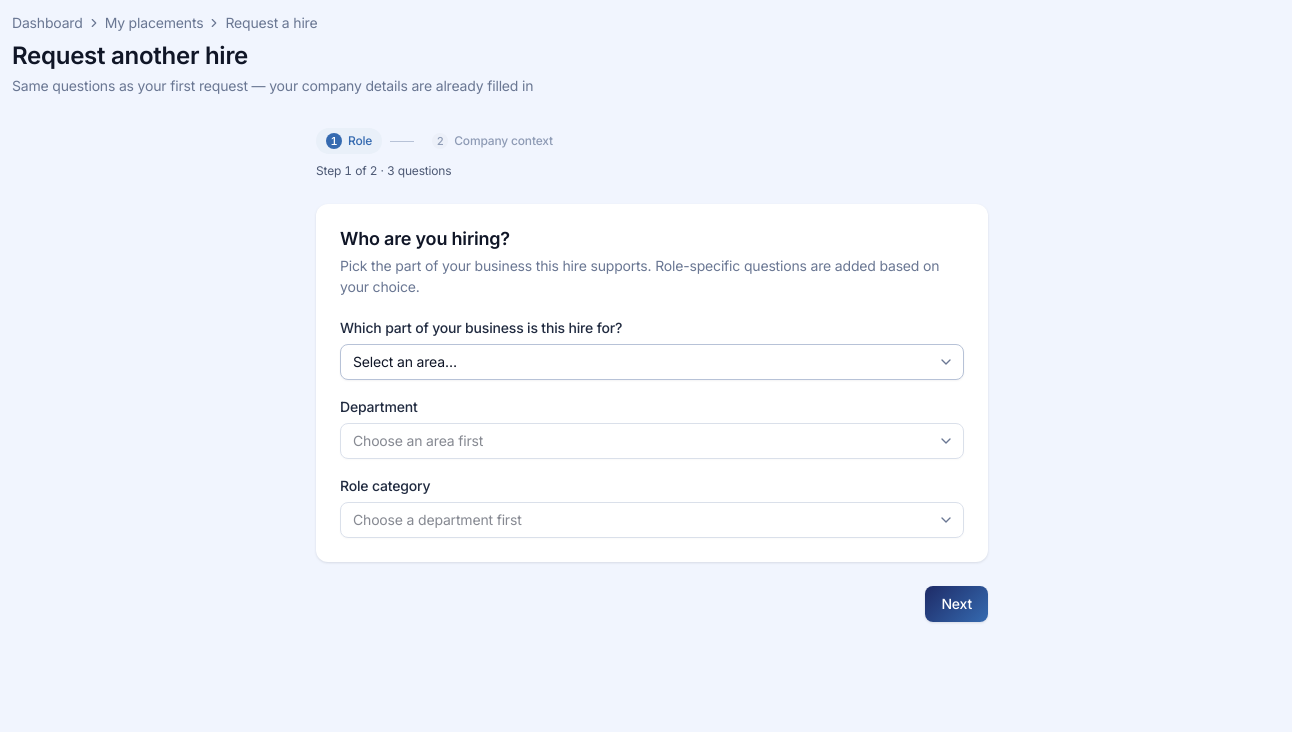
Test: in-portal intake › prefills company/contact questions read-only from the account
This screenshot has width=1292, height=732.
Select "Operations" in the dropdown labelled "Which part of your business is this hire for?" at coordinates (652, 362), box x1=340 y1=344 x2=964 y2=380
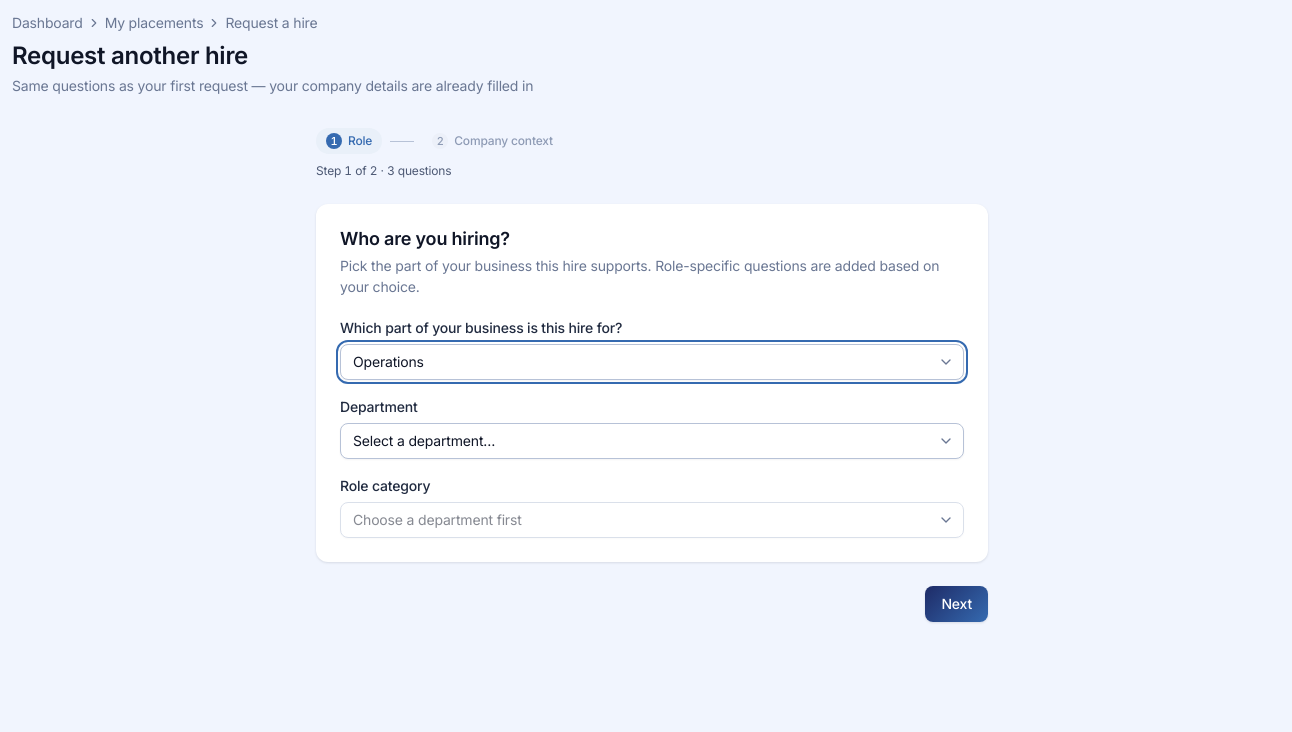
Select "Executive Assistance" in the dropdown labelled "Department" at coordinates (652, 440), box x1=340 y1=422 x2=964 y2=458
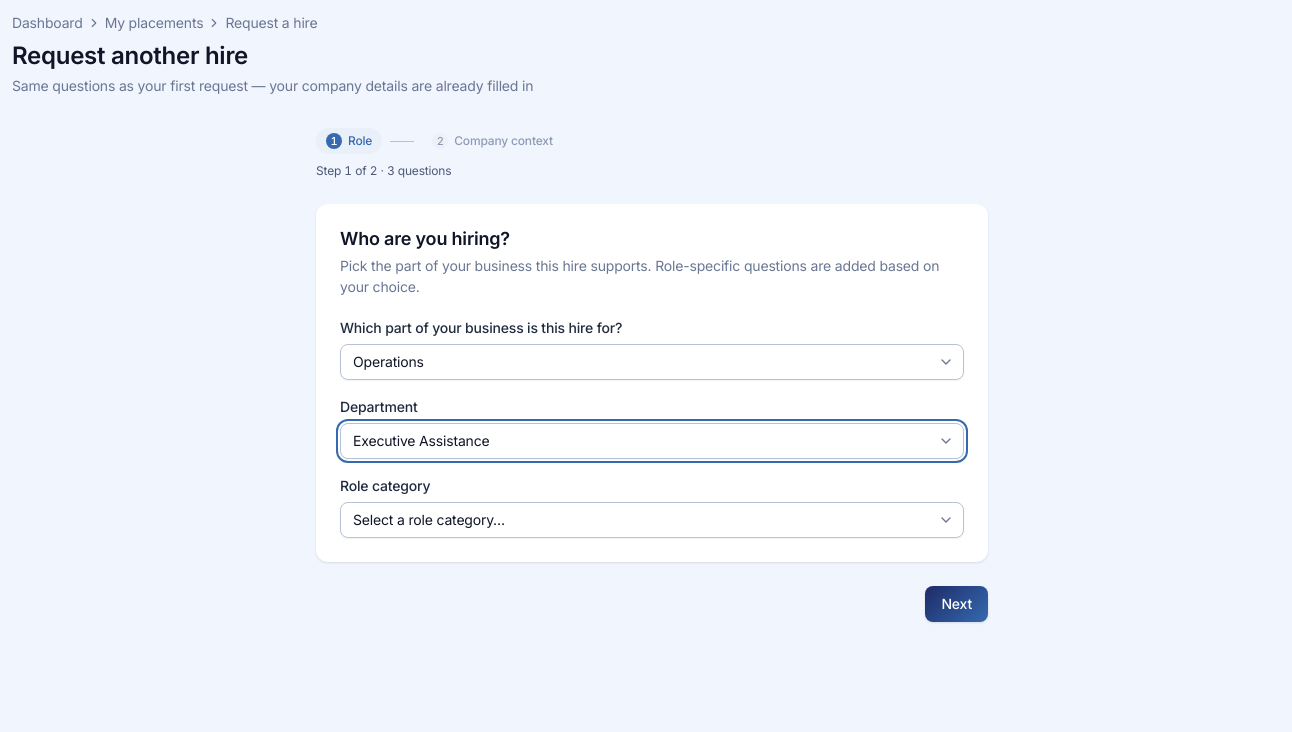
Select "Executive Assistant" in the dropdown labelled "Role category" at coordinates (652, 520), box x1=340 y1=502 x2=964 y2=538
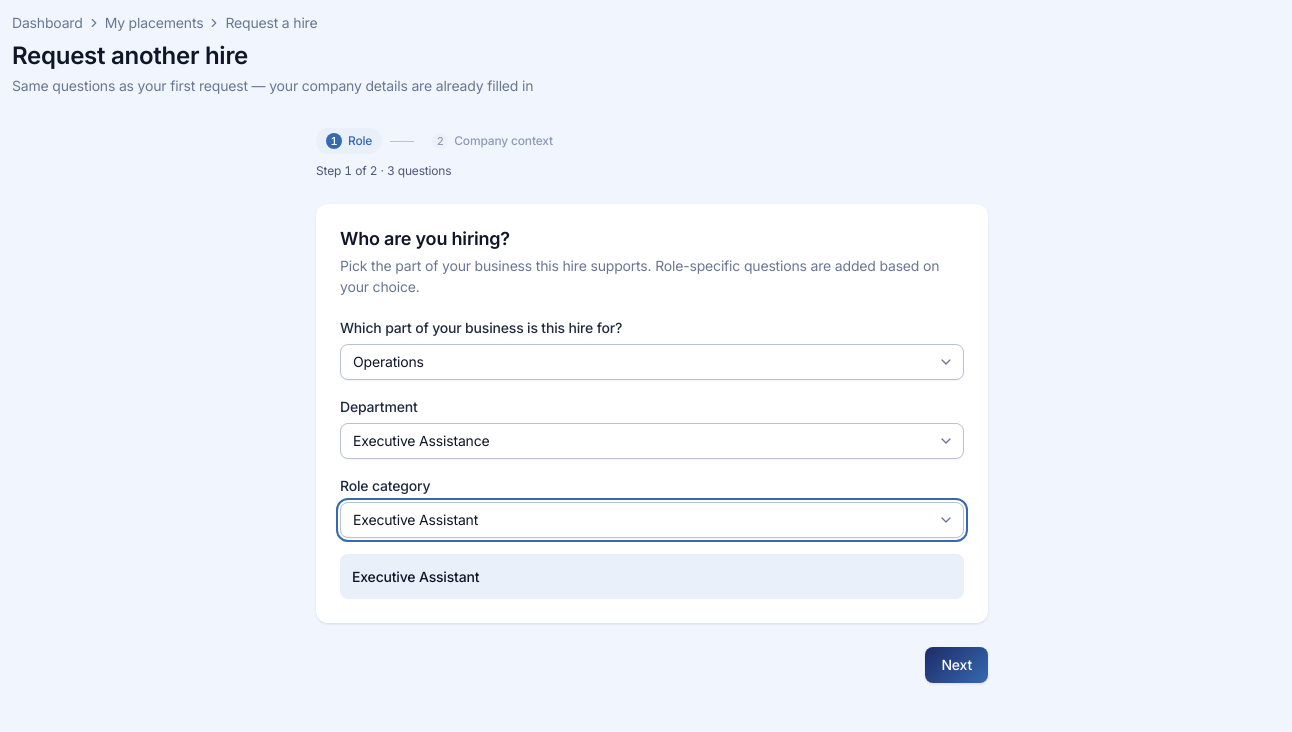
Click the button "Next" at coordinates (957, 664), box x1=925 y1=646 x2=988 y2=682
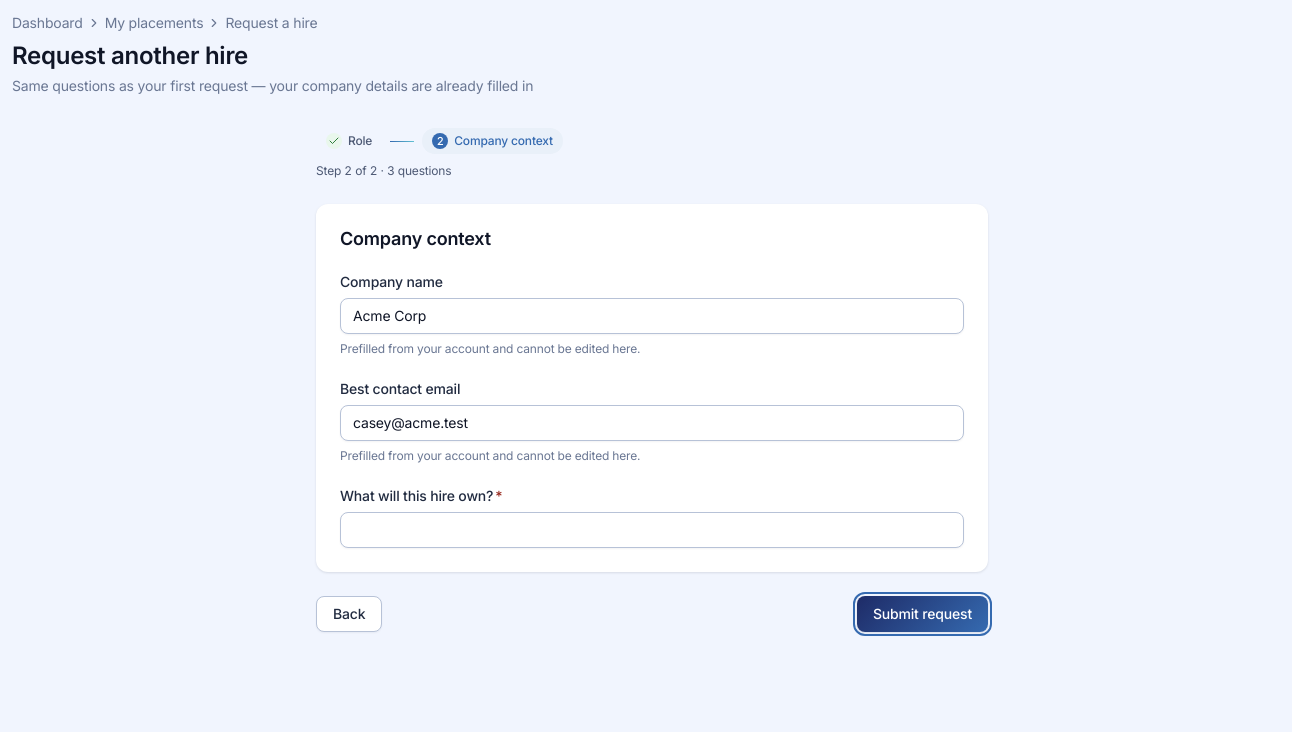
Check: the field labelled "Company name" holds "Acme Corp", box x1=340 y1=298 x2=964 y2=334
Check: the field labelled "Best contact email" holds "casey@acme.test", box x1=340 y1=404 x2=964 y2=440
Check: the text "Prefilled from your account and cannot be edited here." is shown 2 times, box x1=340 y1=340 x2=640 y2=356; x1=340 y1=448 x2=640 y2=462
